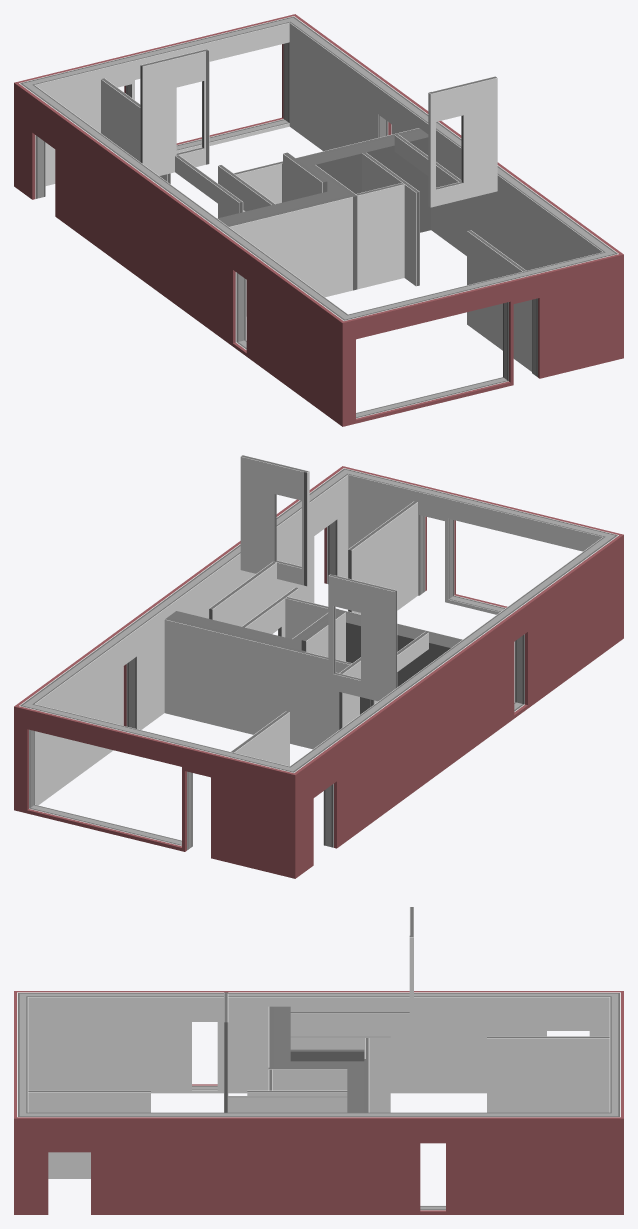
Rendered from Duplex_A_20110907_Level_1_IfcWallStandardCase.dae.
3 renders of one model, top to bottom at view 1: azimuth 30°, elevation 25°; view 2: azimuth 150°, elevation 25°; view 3: azimuth 270°, elevation 25°, orthographic. The views are drawn at different scales.
Visible parts, largest first — view 1: 2O2Fr$t4X7Zf8NOew3FNhv, 2O2Fr$t4X7Zf8NOew3FNqI, 2O2Fr$t4X7Zf8NOew3FNr2, 2O2Fr$t4X7Zf8NOew3FNtn, 0iEHWY1$XA8eQeeULq4jE6, 2O2Fr$t4X7Zf8NOew3FL8v, 2O2Fr$t4X7Zf8NOew3FLTF, 2O2Fr$t4X7Zf8NOew3FKIu, 2O2Fr$t4X7Zf8NOew3FKGS, 2O2Fr$t4X7Zf8NOew3FNbT, 2O2Fr$t4X7Zf8NOew3FKST, 2O2Fr$t4X7Zf8NOew3FNld (+7 smaller); view 2: 2O2Fr$t4X7Zf8NOew3FNhv, 2O2Fr$t4X7Zf8NOew3FNqI, 2O2Fr$t4X7Zf8NOew3FNtn, 0iEHWY1$XA8eQeeULq4jZ1, 2O2Fr$t4X7Zf8NOew3FNr2, 2O2Fr$t4X7Zf8NOew3FLTF, 2O2Fr$t4X7Zf8NOew3FL8v, 2O2Fr$t4X7Zf8NOew3FKGS, 0iEHWY1$XA8eQeeULq4jpl, 2O2Fr$t4X7Zf8NOew3FKRi, 2O2Fr$t4X7Zf8NOew3FNld, 1aj$VJZFn2TxepZUBcKphf (+6 smaller); view 3: 2O2Fr$t4X7Zf8NOew3FNqI, 2O2Fr$t4X7Zf8NOew3FNhv, 2O2Fr$t4X7Zf8NOew3FNld, 2O2Fr$t4X7Zf8NOew3FKGS, 2O2Fr$t4X7Zf8NOew3FNtn, 2O2Fr$t4X7Zf8NOew3FNau, 1aj$VJZFn2TxepZUBcKphf, 1aj$VJZFn2TxepZUBcKpee, 2O2Fr$t4X7Zf8NOew3FNr2, 0iEHWY1$XA8eQeeULq4jDb, 2O2Fr$t4X7Zf8NOew3FKRi, 0iEHWY1$XA8eQeeULq4j_U (+5 smaller).
Part boxes in pixels (left/top/right/bottom): 2O2Fr$t4X7Zf8NOew3FNhv: left=21, top=85, right=347, bottom=420; 2O2Fr$t4X7Zf8NOew3FNqI: left=289, top=19, right=623, bottom=361; 2O2Fr$t4X7Zf8NOew3FNr2: left=335, top=252, right=610, bottom=426; 2O2Fr$t4X7Zf8NOew3FNtn: left=14, top=14, right=302, bottom=191; 0iEHWY1$XA8eQeeULq4jE6: left=226, top=195, right=352, bottom=316; 2O2Fr$t4X7Zf8NOew3FL8v: left=428, top=76, right=497, bottom=207; 2O2Fr$t4X7Zf8NOew3FLTF: left=140, top=49, right=209, bottom=175; 2O2Fr$t4X7Zf8NOew3FKIu: left=356, top=183, right=404, bottom=289; 2O2Fr$t4X7Zf8NOew3FKGS: left=467, top=230, right=531, bottom=371; 2O2Fr$t4X7Zf8NOew3FNbT: left=298, top=130, right=430, bottom=232; 2O2Fr$t4X7Zf8NOew3FKST: left=362, top=152, right=419, bottom=286; 2O2Fr$t4X7Zf8NOew3FNld: left=101, top=78, right=170, bottom=184; 2O2Fr$t4X7Zf8NOew3FNhv: left=290, top=537, right=616, bottom=872; 2O2Fr$t4X7Zf8NOew3FNqI: left=22, top=466, right=355, bottom=805; 2O2Fr$t4X7Zf8NOew3FNtn: left=14, top=701, right=302, bottom=878; 0iEHWY1$XA8eQeeULq4jZ1: left=164, top=617, right=306, bottom=746; 2O2Fr$t4X7Zf8NOew3FNr2: left=348, top=469, right=623, bottom=643; 2O2Fr$t4X7Zf8NOew3FLTF: left=328, top=574, right=397, bottom=701; 2O2Fr$t4X7Zf8NOew3FL8v: left=240, top=455, right=309, bottom=586; 2O2Fr$t4X7Zf8NOew3FKGS: left=348, top=501, right=417, bottom=614; 0iEHWY1$XA8eQeeULq4jpl: left=303, top=652, right=351, bottom=749; 2O2Fr$t4X7Zf8NOew3FKRi: left=327, top=611, right=459, bottom=714; 2O2Fr$t4X7Zf8NOew3FNld: left=230, top=711, right=289, bottom=766; 1aj$VJZFn2TxepZUBcKphf: left=209, top=561, right=276, bottom=621; 2O2Fr$t4X7Zf8NOew3FNqI: left=14, top=1112, right=609, bottom=1214; 2O2Fr$t4X7Zf8NOew3FNhv: left=28, top=991, right=609, bottom=1093; 2O2Fr$t4X7Zf8NOew3FNld: left=487, top=1036, right=609, bottom=1112; 2O2Fr$t4X7Zf8NOew3FKGS: left=28, top=1090, right=150, bottom=1178; 2O2Fr$t4X7Zf8NOew3FNtn: left=609, top=991, right=623, bottom=1214; 2O2Fr$t4X7Zf8NOew3FNau: left=290, top=1036, right=390, bottom=1112; 1aj$VJZFn2TxepZUBcKphf: left=228, top=1096, right=347, bottom=1112; 1aj$VJZFn2TxepZUBcKpee: left=290, top=1012, right=409, bottom=1028; 2O2Fr$t4X7Zf8NOew3FNr2: left=14, top=991, right=28, bottom=1112; 0iEHWY1$XA8eQeeULq4jDb: left=268, top=1067, right=347, bottom=1090; 2O2Fr$t4X7Zf8NOew3FKRi: left=273, top=1006, right=290, bottom=1067; 0iEHWY1$XA8eQeeULq4j_U: left=290, top=1049, right=364, bottom=1061.
Bounding box in the file's own units: 8.8 × 17.8 × 6.
